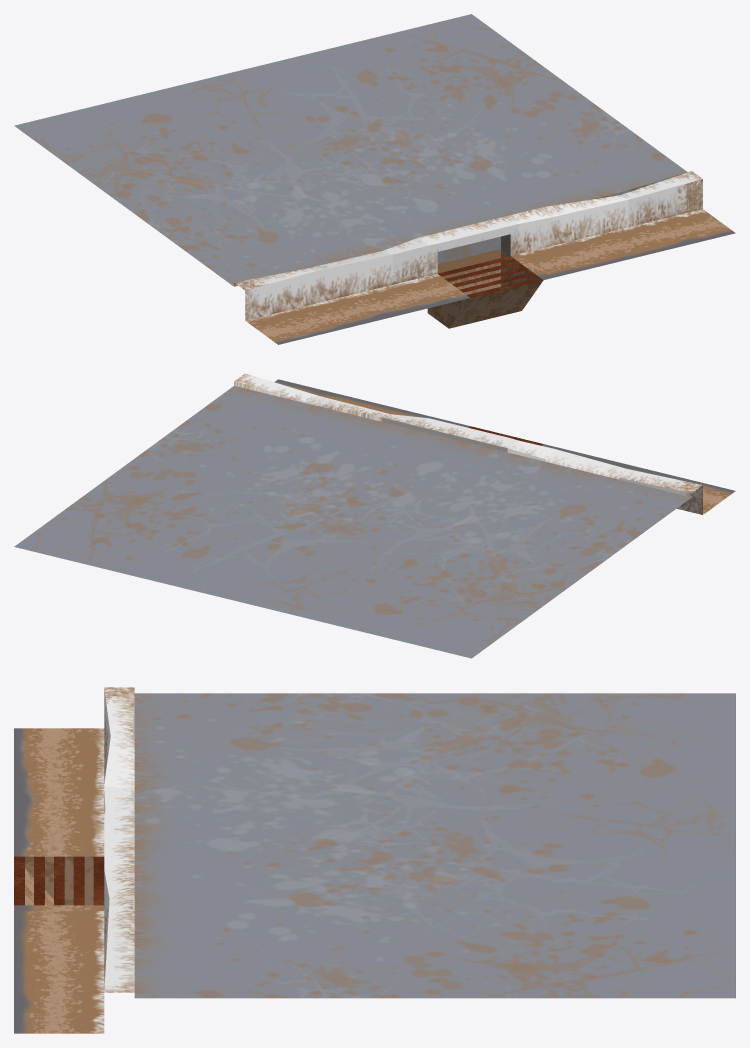
Rendered from Manhole_01.fbx.
The picture shows the model from 3 angles, top to bottom: view 1: azimuth 30°, elevation 25°; view 2: azimuth 150°, elevation 25°; view 3: azimuth 270°, elevation 25°; orthographic projection. The views are drawn at different scales.
Visible parts, largest first — view 1: Manhole_01, Manhole_01_Grid; view 2: Manhole_01; view 3: Manhole_01, Manhole_01_Grid.
Boxes of the visible parts, x1=… form: Manhole_01: x1=14, y1=14, x2=735, y2=344; Manhole_01_Grid: x1=438, y1=256, x2=543, y2=297; Manhole_01: x1=14, y1=373, x2=735, y2=658; Manhole_01: x1=14, y1=687, x2=735, y2=1033; Manhole_01_Grid: x1=14, y1=856, x2=104, y2=905.
Bounding box in the file's own units: 250 × 40 × 250.
